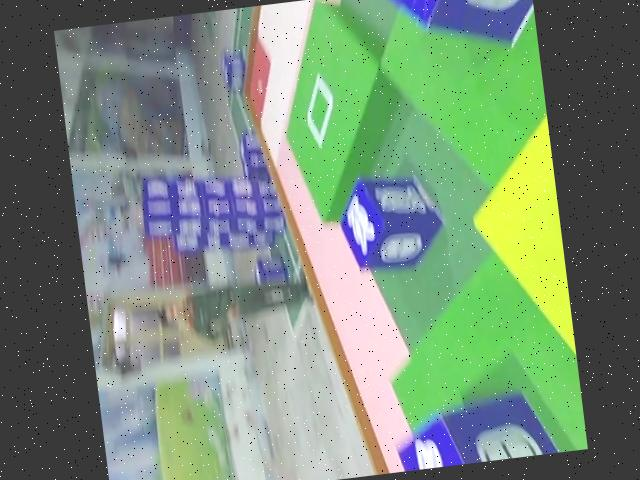R2 Fake Blue: (386, 388, 584, 473), (336, 166, 450, 275), (381, 0, 538, 66)
